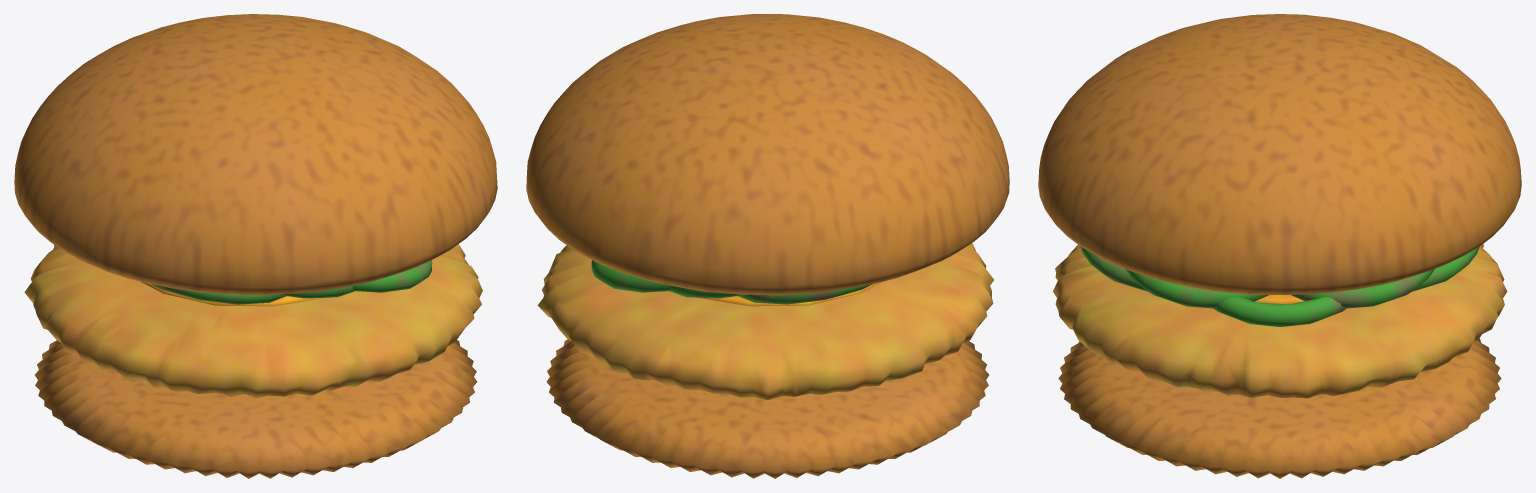
File: paneer-royale-burger-balanced.glb
The picture shows the model from 3 angles, left to right: view 1: azimuth 30°, elevation 25°; view 2: azimuth 150°, elevation 25°; view 3: azimuth 270°, elevation 25°; orthographic projection.
Visible parts, largest first — view 1: Mesh_Royale_Brioche_Buns, Mesh_Shahi_Paneer_Steak_Patty, Mesh_Pickled_Onion_And_Arugula, Mesh_Saffron_Makhani_Cheese_Melt; view 2: Mesh_Royale_Brioche_Buns, Mesh_Shahi_Paneer_Steak_Patty, Mesh_Pickled_Onion_And_Arugula, Mesh_Saffron_Makhani_Cheese_Melt; view 3: Mesh_Royale_Brioche_Buns, Mesh_Shahi_Paneer_Steak_Patty, Mesh_Pickled_Onion_And_Arugula.
Boxes of the visible parts, x1=… form: Mesh_Royale_Brioche_Buns: x1=14, y1=14, x2=497, y2=478; Mesh_Shahi_Paneer_Steak_Patty: x1=24, y1=244, x2=482, y2=398; Mesh_Pickled_Onion_And_Arugula: x1=151, y1=260, x2=432, y2=304; Mesh_Saffron_Makhani_Cheese_Melt: x1=141, y1=282, x2=325, y2=306; Mesh_Royale_Brioche_Buns: x1=526, y1=14, x2=1009, y2=478; Mesh_Shahi_Paneer_Steak_Patty: x1=537, y1=243, x2=993, y2=400; Mesh_Pickled_Onion_And_Arugula: x1=591, y1=260, x2=872, y2=304; Mesh_Saffron_Makhani_Cheese_Melt: x1=698, y1=281, x2=882, y2=306; Mesh_Royale_Brioche_Buns: x1=1038, y1=14, x2=1521, y2=478; Mesh_Shahi_Paneer_Steak_Patty: x1=1053, y1=244, x2=1507, y2=398; Mesh_Pickled_Onion_And_Arugula: x1=1080, y1=246, x2=1479, y2=326.
Size of the model in its own units: 2 by 1.67 by 2.
4 materials, 4 textured.
